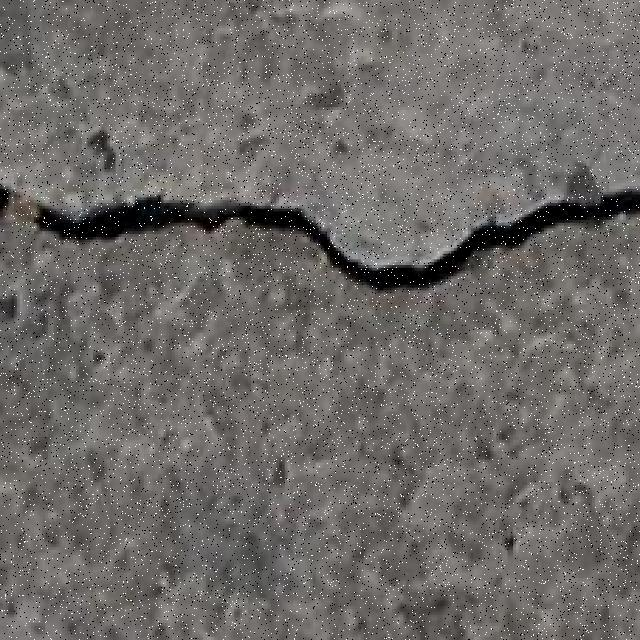crack: (1, 182, 638, 291), (19, 191, 283, 244)
